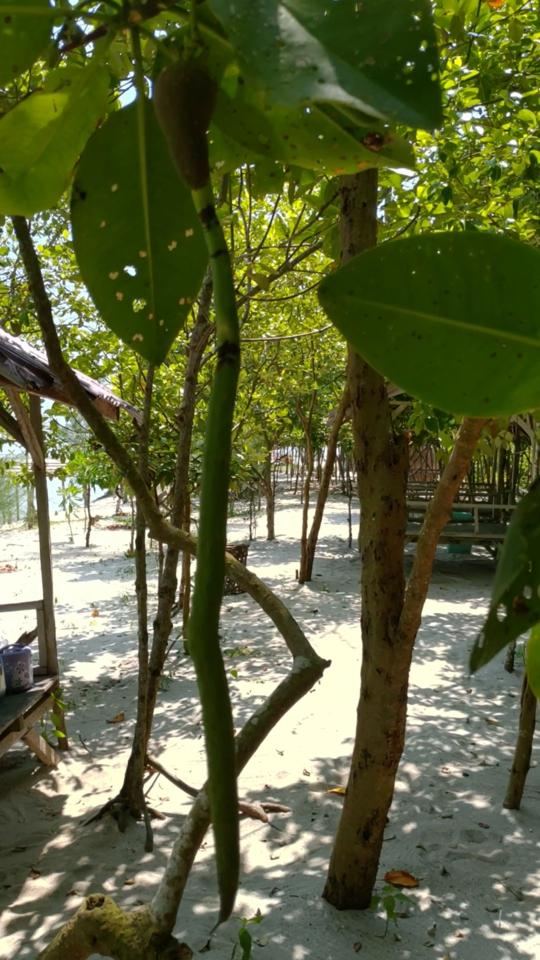mentah: (133, 45, 279, 936)
